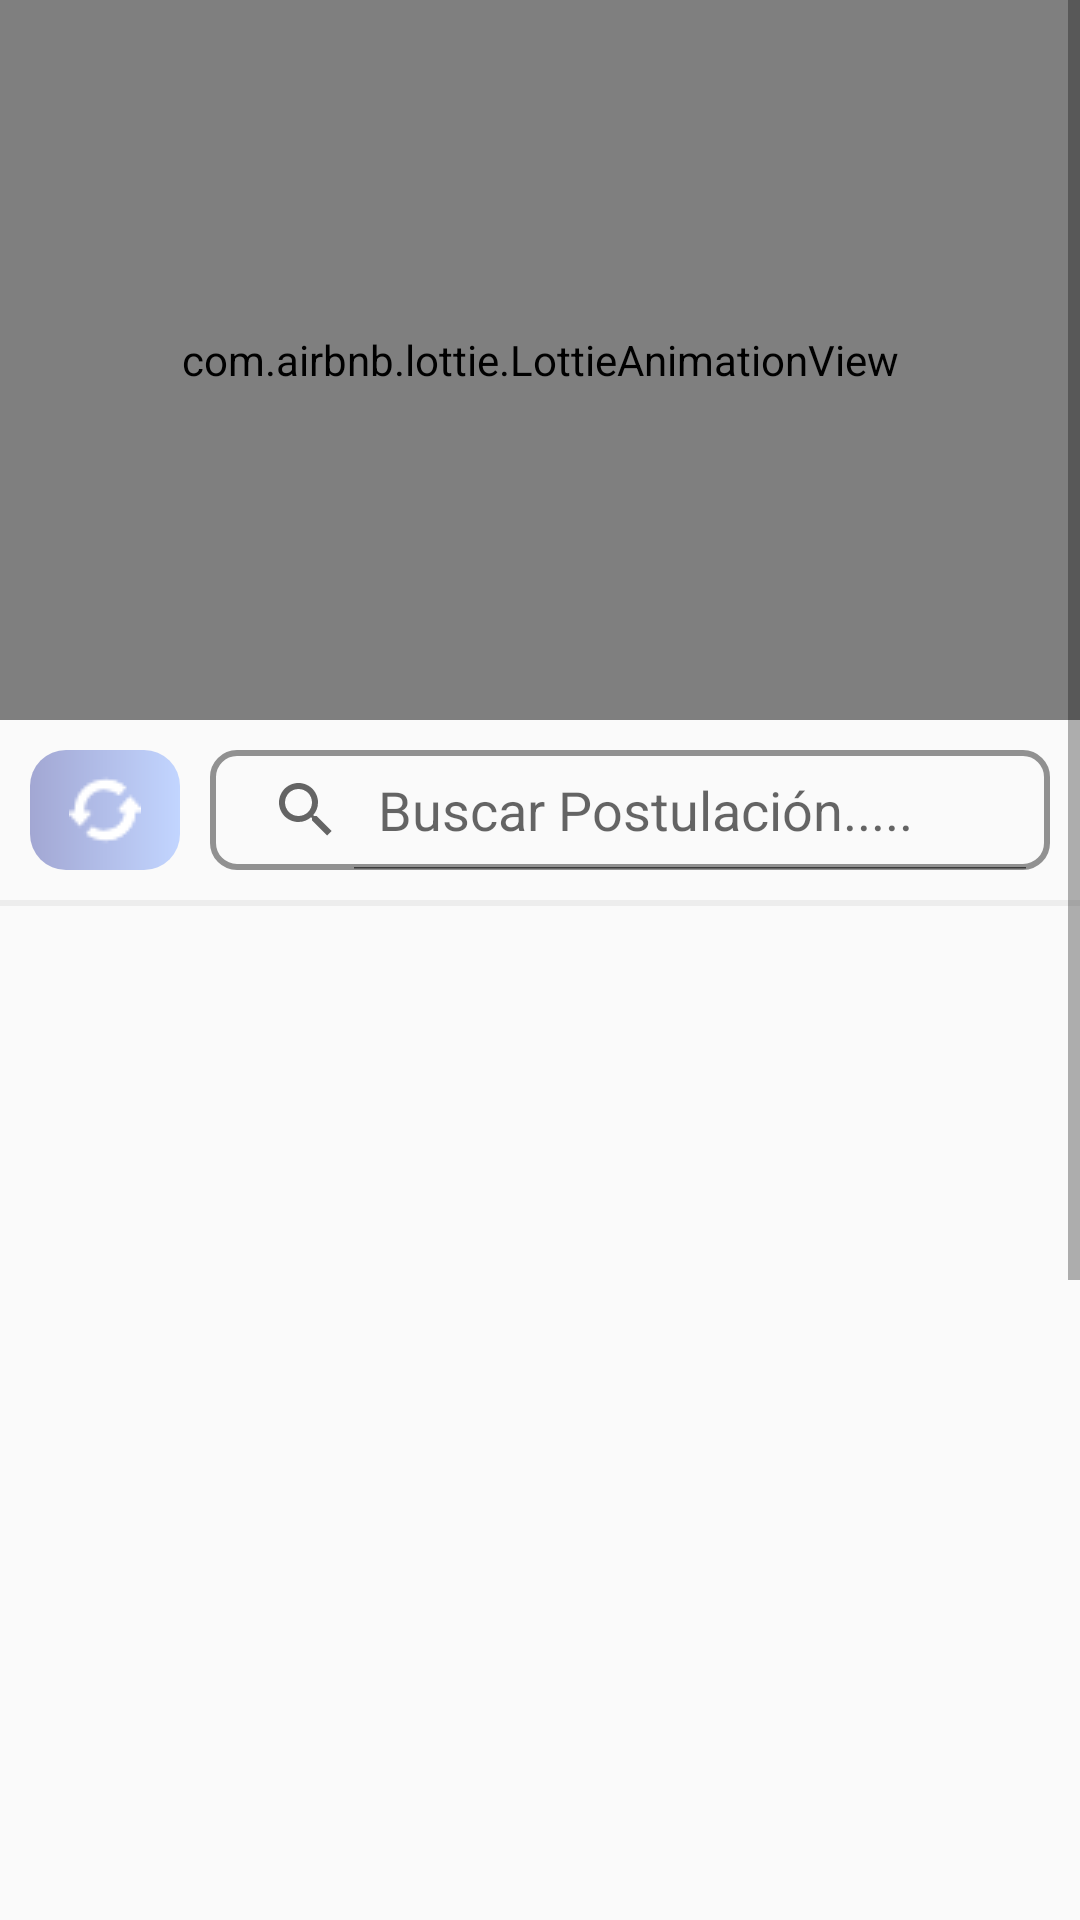

Locate icon controls on the screen. Image size 1080px×1920px, boxes as {"x1": x1, "y1": y1, "x2": x2, "y2": y2}.
actualizar: {"x1": 30, "y1": 750, "x2": 180, "y2": 870}
